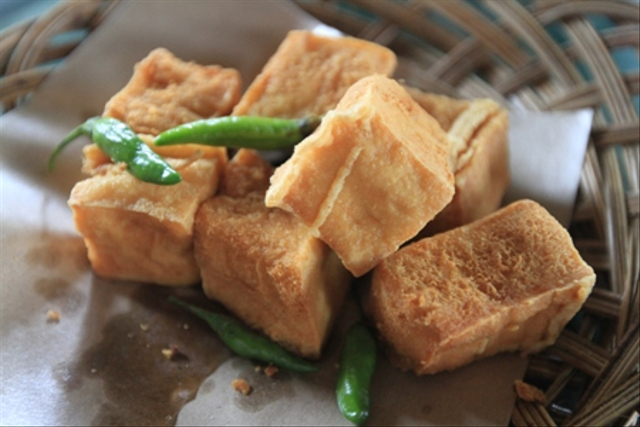Tahu: (373, 198, 574, 392), (251, 119, 438, 258), (166, 195, 330, 346), (63, 158, 219, 283)
